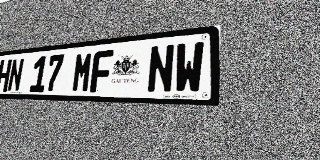1: (29, 56, 49, 92)
7: (44, 54, 64, 92)
F: (90, 50, 114, 93)
H: (0, 59, 12, 92)
M: (71, 51, 94, 93)
N: (146, 44, 175, 93), (7, 58, 25, 92)
W: (173, 41, 204, 94)
